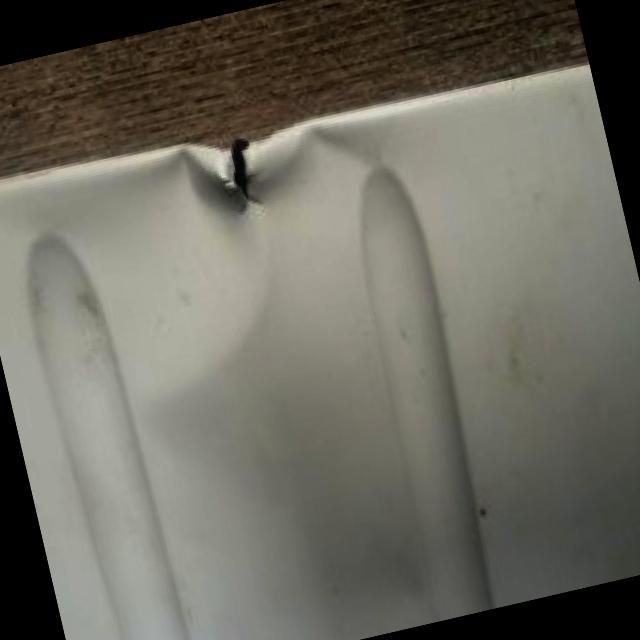crack: (208, 134, 278, 224)
